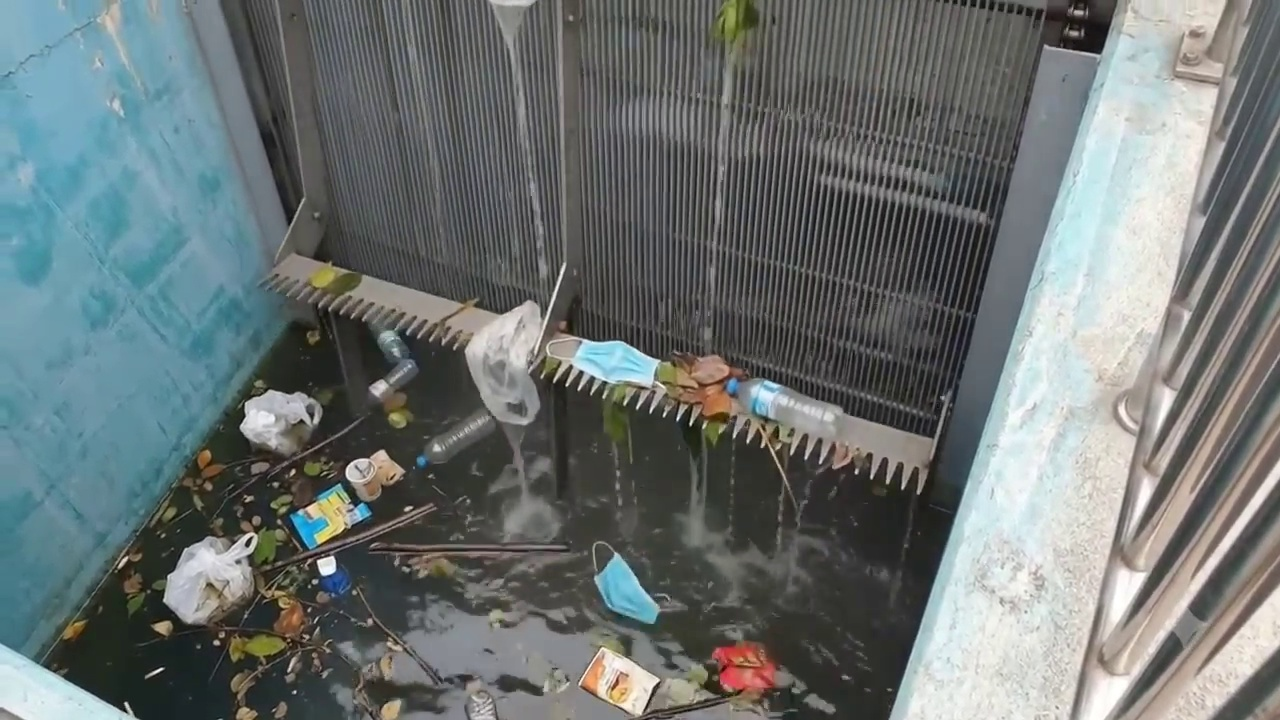debris: (547, 340, 843, 438), (288, 451, 404, 549), (166, 527, 283, 624), (239, 390, 322, 456), (592, 543, 659, 623), (579, 650, 657, 716), (416, 407, 496, 467), (368, 329, 418, 402), (713, 642, 775, 692), (318, 556, 351, 594), (274, 609, 304, 634)
